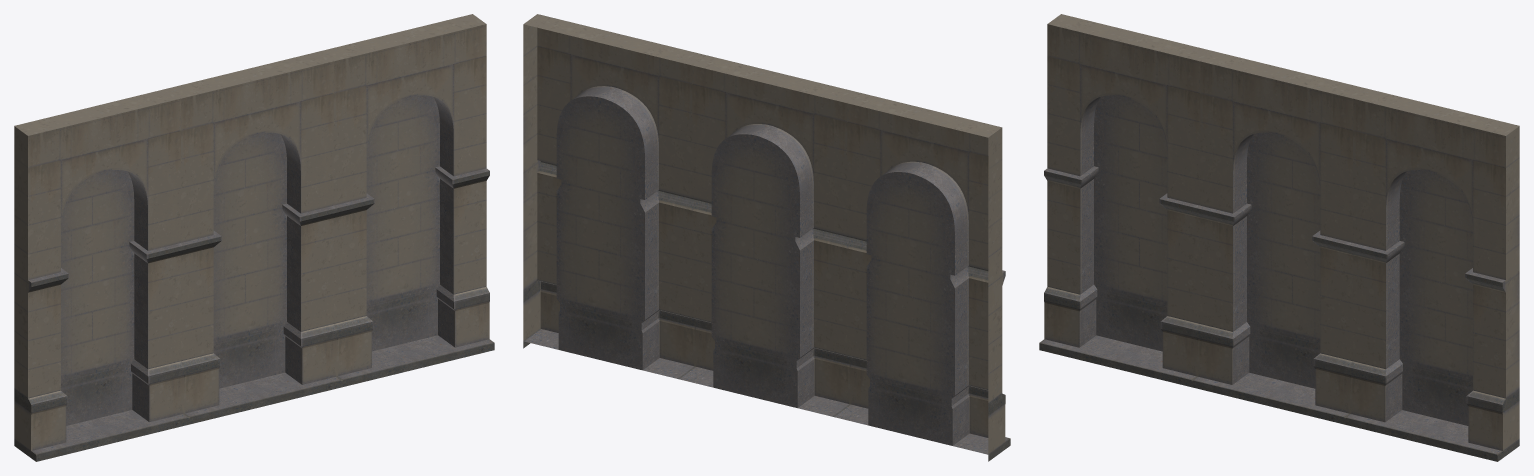
Rendered from SM_Wall03Triple.FBX.
3 renders of one model, left to right at view 1: azimuth 30°, elevation 25°; view 2: azimuth 150°, elevation 25°; view 3: azimuth 330°, elevation 25°, orthographic.
Visible parts, largest first — view 1: SM_Wall03Triple; view 2: SM_Wall03Triple; view 3: SM_Wall03Triple.
Boxes of the visible parts, box(x1,y1,x2,y2) form: SM_Wall03Triple: box(14, 14, 494, 461); SM_Wall03Triple: box(523, 14, 1010, 461); SM_Wall03Triple: box(1039, 14, 1519, 461).
Size of the model in its own units: 1200 by 100 by 800.
